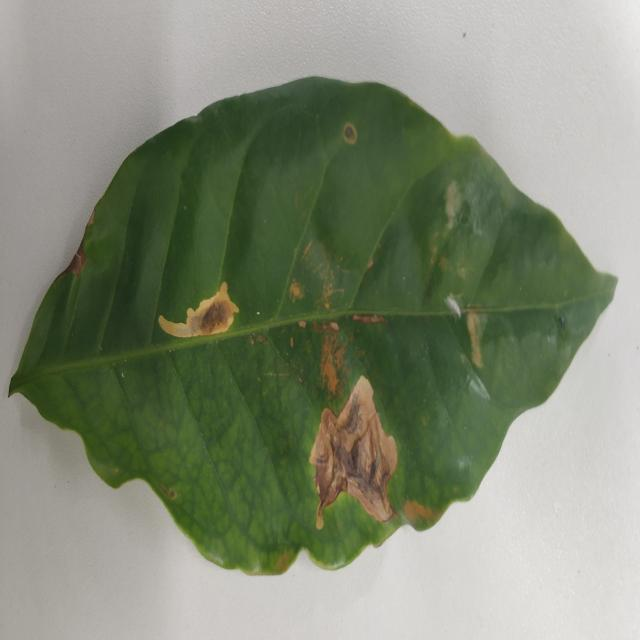Plaga-Minador: (8, 77, 620, 580)
